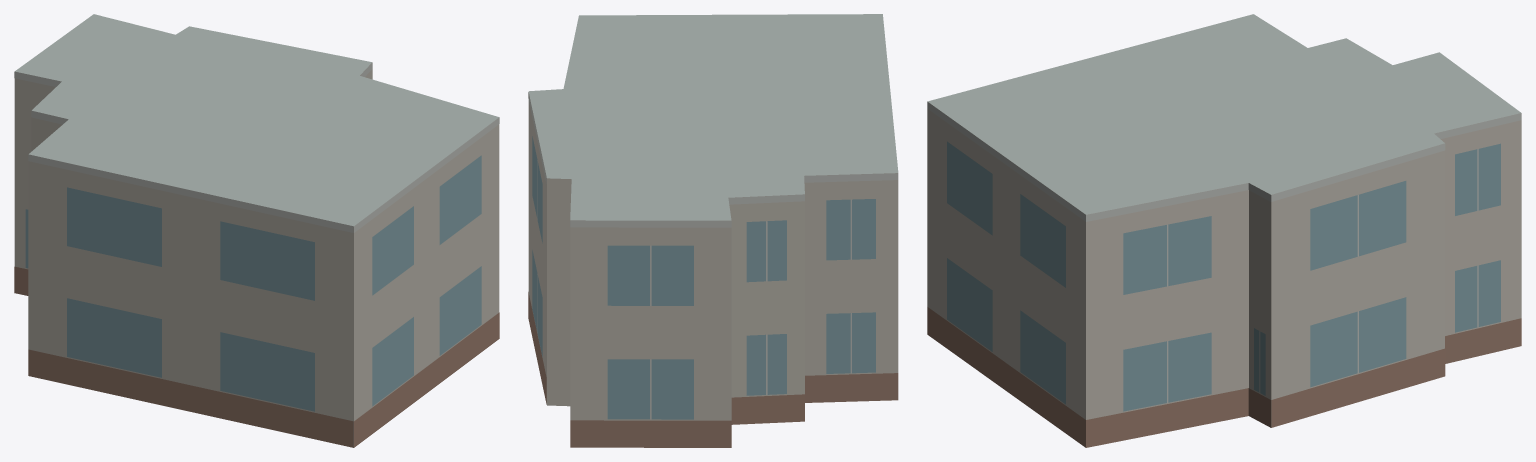
Rendered from survey-upis-32499909.glb.
3 views of the same model, side by side, from view 1: azimuth 30°, elevation 25°; view 2: azimuth 150°, elevation 25°; view 3: azimuth 270°, elevation 25° (orthographic). The views are drawn at different scales.
Parts seen in each view (by area): view 1: survey-upis-32499909.tmp; view 2: survey-upis-32499909.tmp; view 3: survey-upis-32499909.tmp.
Boxes of the visible parts, box(x1,y1,x2,y2) form: survey-upis-32499909.tmp: box(14, 14, 499, 447); survey-upis-32499909.tmp: box(528, 14, 898, 447); survey-upis-32499909.tmp: box(927, 14, 1521, 447).
Size of the model in its own units: 14.7 by 7.95 by 18.39.
